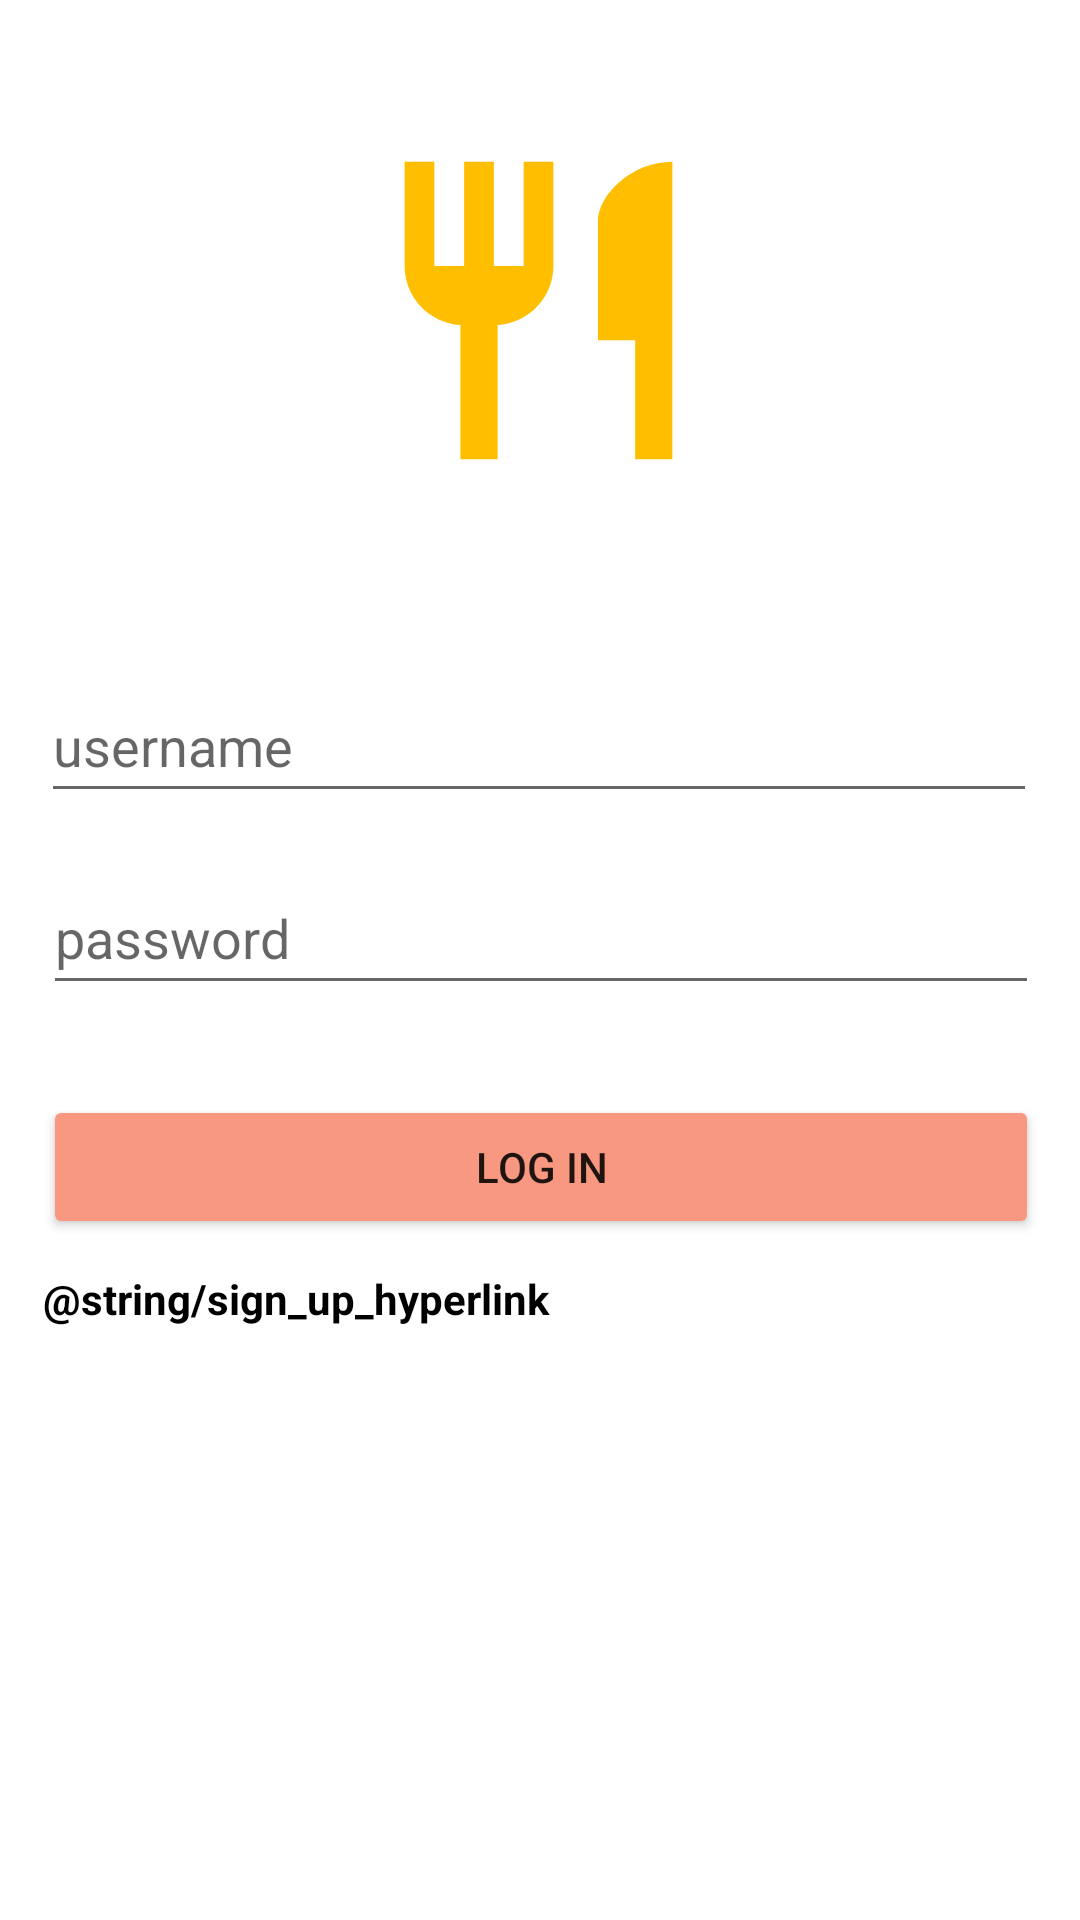

Icon bounding boxes for this 1080*1920 phone screenshot, format box(x1, y1, x2, y2):
restaurant: box(404, 161, 673, 460)
